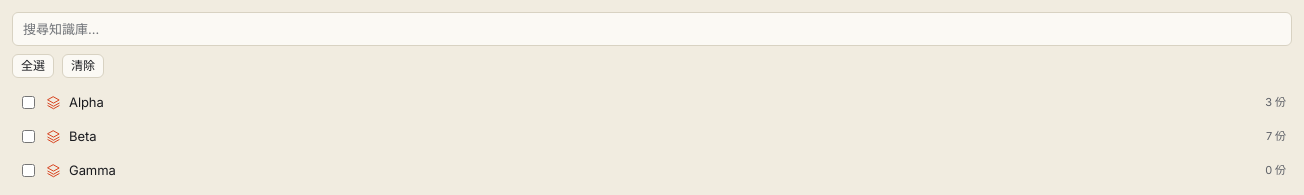
Scenario: CollectionsChecklist › shows a no-match hint when the search matches nothing
The width and height of the screenshot is (1304, 195).
In the field with test id "collections-search": (652, 29) [12, 12, 1292, 46], type "zzz"
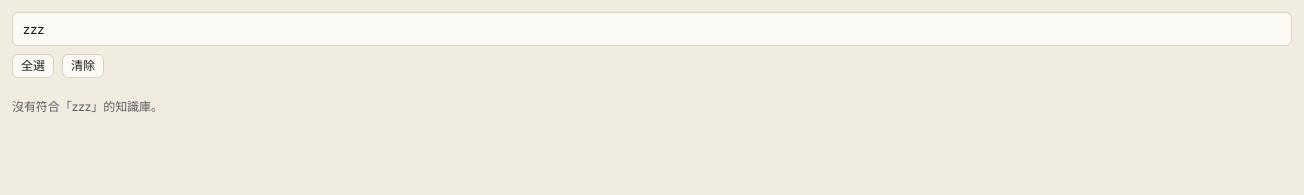
Expected: the text "沒有符合「zzz」的知識庫。" is shown, [12, 99, 163, 114]
Expected: the label with test id "collection-row-a" is gone
